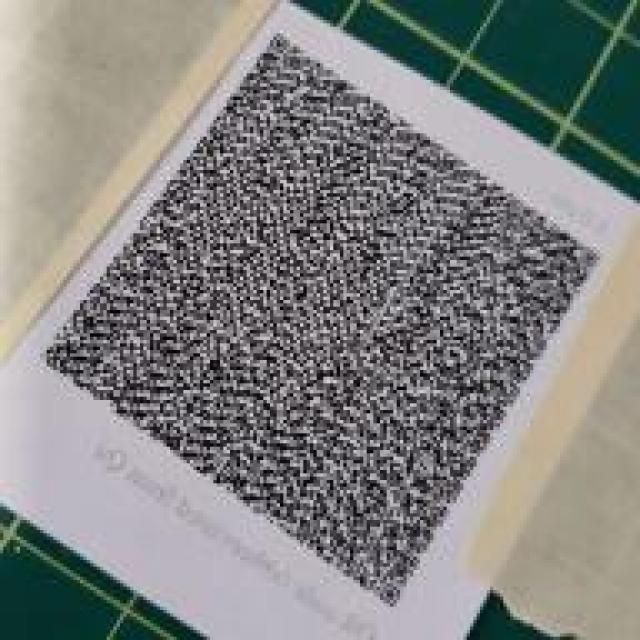QR_CODE: (28, 13, 617, 617)
